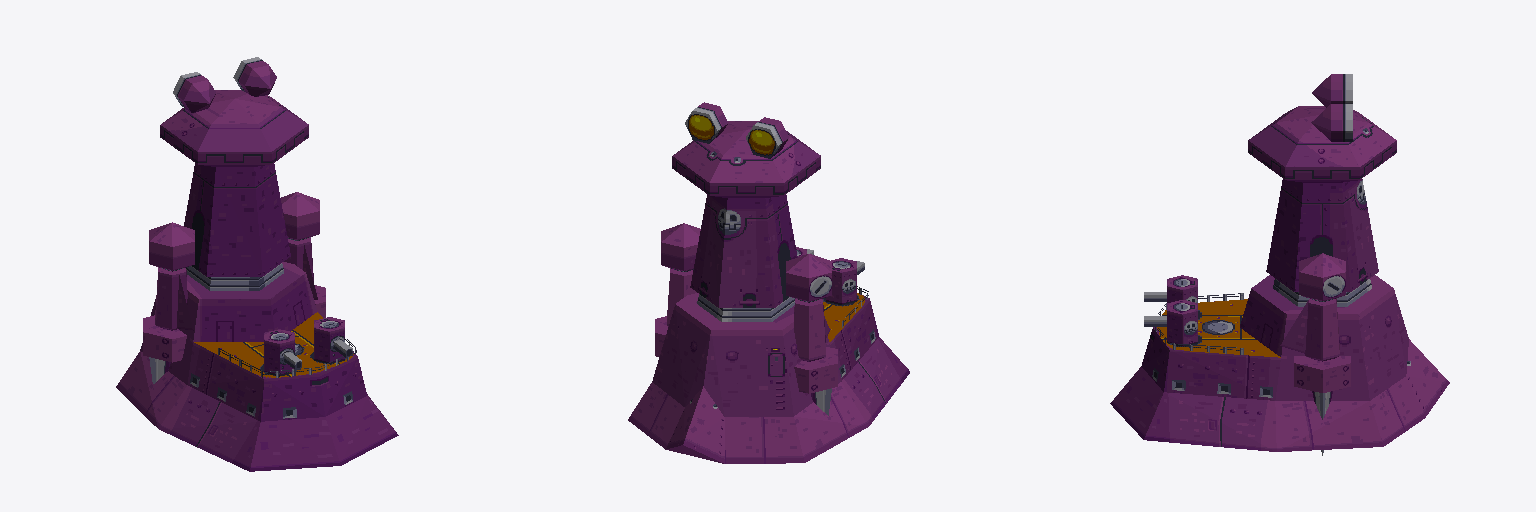
3 renders of one model, left to right at view 1: azimuth 30°, elevation 25°; view 2: azimuth 150°, elevation 25°; view 3: azimuth 270°, elevation 25°, orthographic.
Parts seen in each view (by area): view 1: Mesh; view 2: Mesh; view 3: Mesh.
Boxes of the visible parts, x1,y1,x2,y2 form: Mesh: [116, 57, 398, 471]; Mesh: [628, 102, 909, 463]; Mesh: [1110, 74, 1449, 455].
Bounding box in the file's own units: 301 × 472 × 446.
Materials: 1 (1 with a texture image).